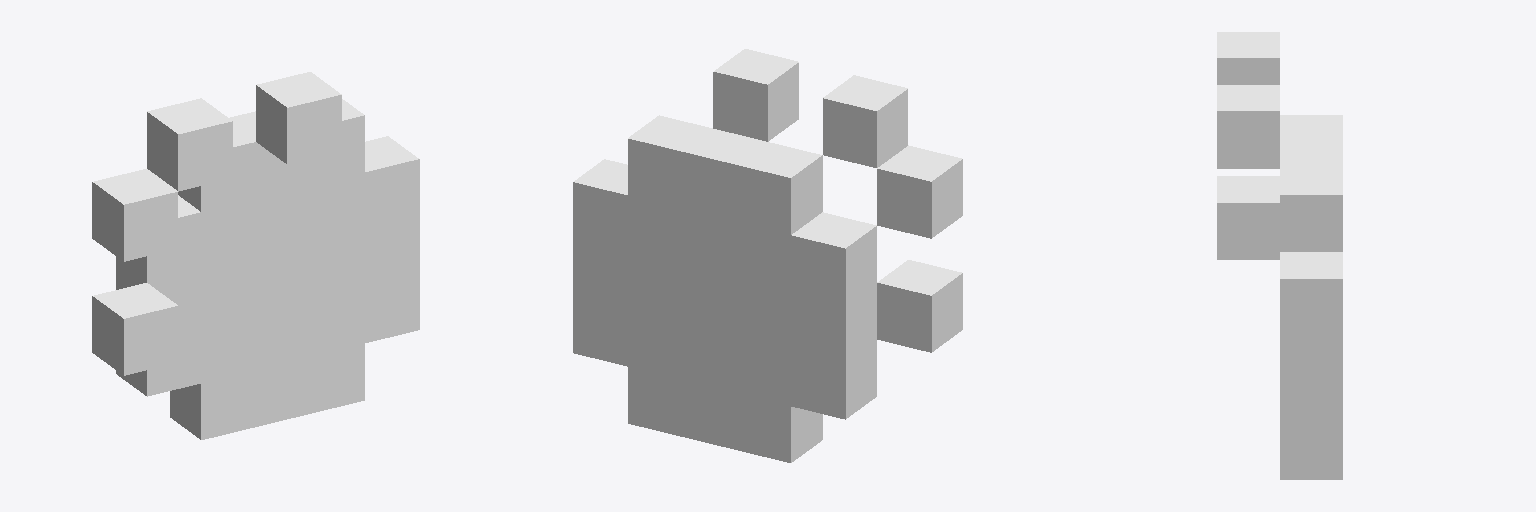
File: eye10.obj
The picture shows the model from 3 angles: view 1: azimuth 30°, elevation 25°; view 2: azimuth 150°, elevation 25°; view 3: azimuth 270°, elevation 25°; orthographic projection.
Visible parts, largest first — view 1: eye10; view 2: eye10; view 3: eye10.
Boxes of the visible parts, box(x1,y1,x2,y2) form: eye10: box(92, 72, 419, 439); eye10: box(573, 49, 962, 462); eye10: box(1217, 32, 1342, 479).
Bounding box in the file's own units: 0.6 × 0.6 × 0.2.